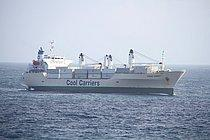Ship: (17, 35, 190, 101)
